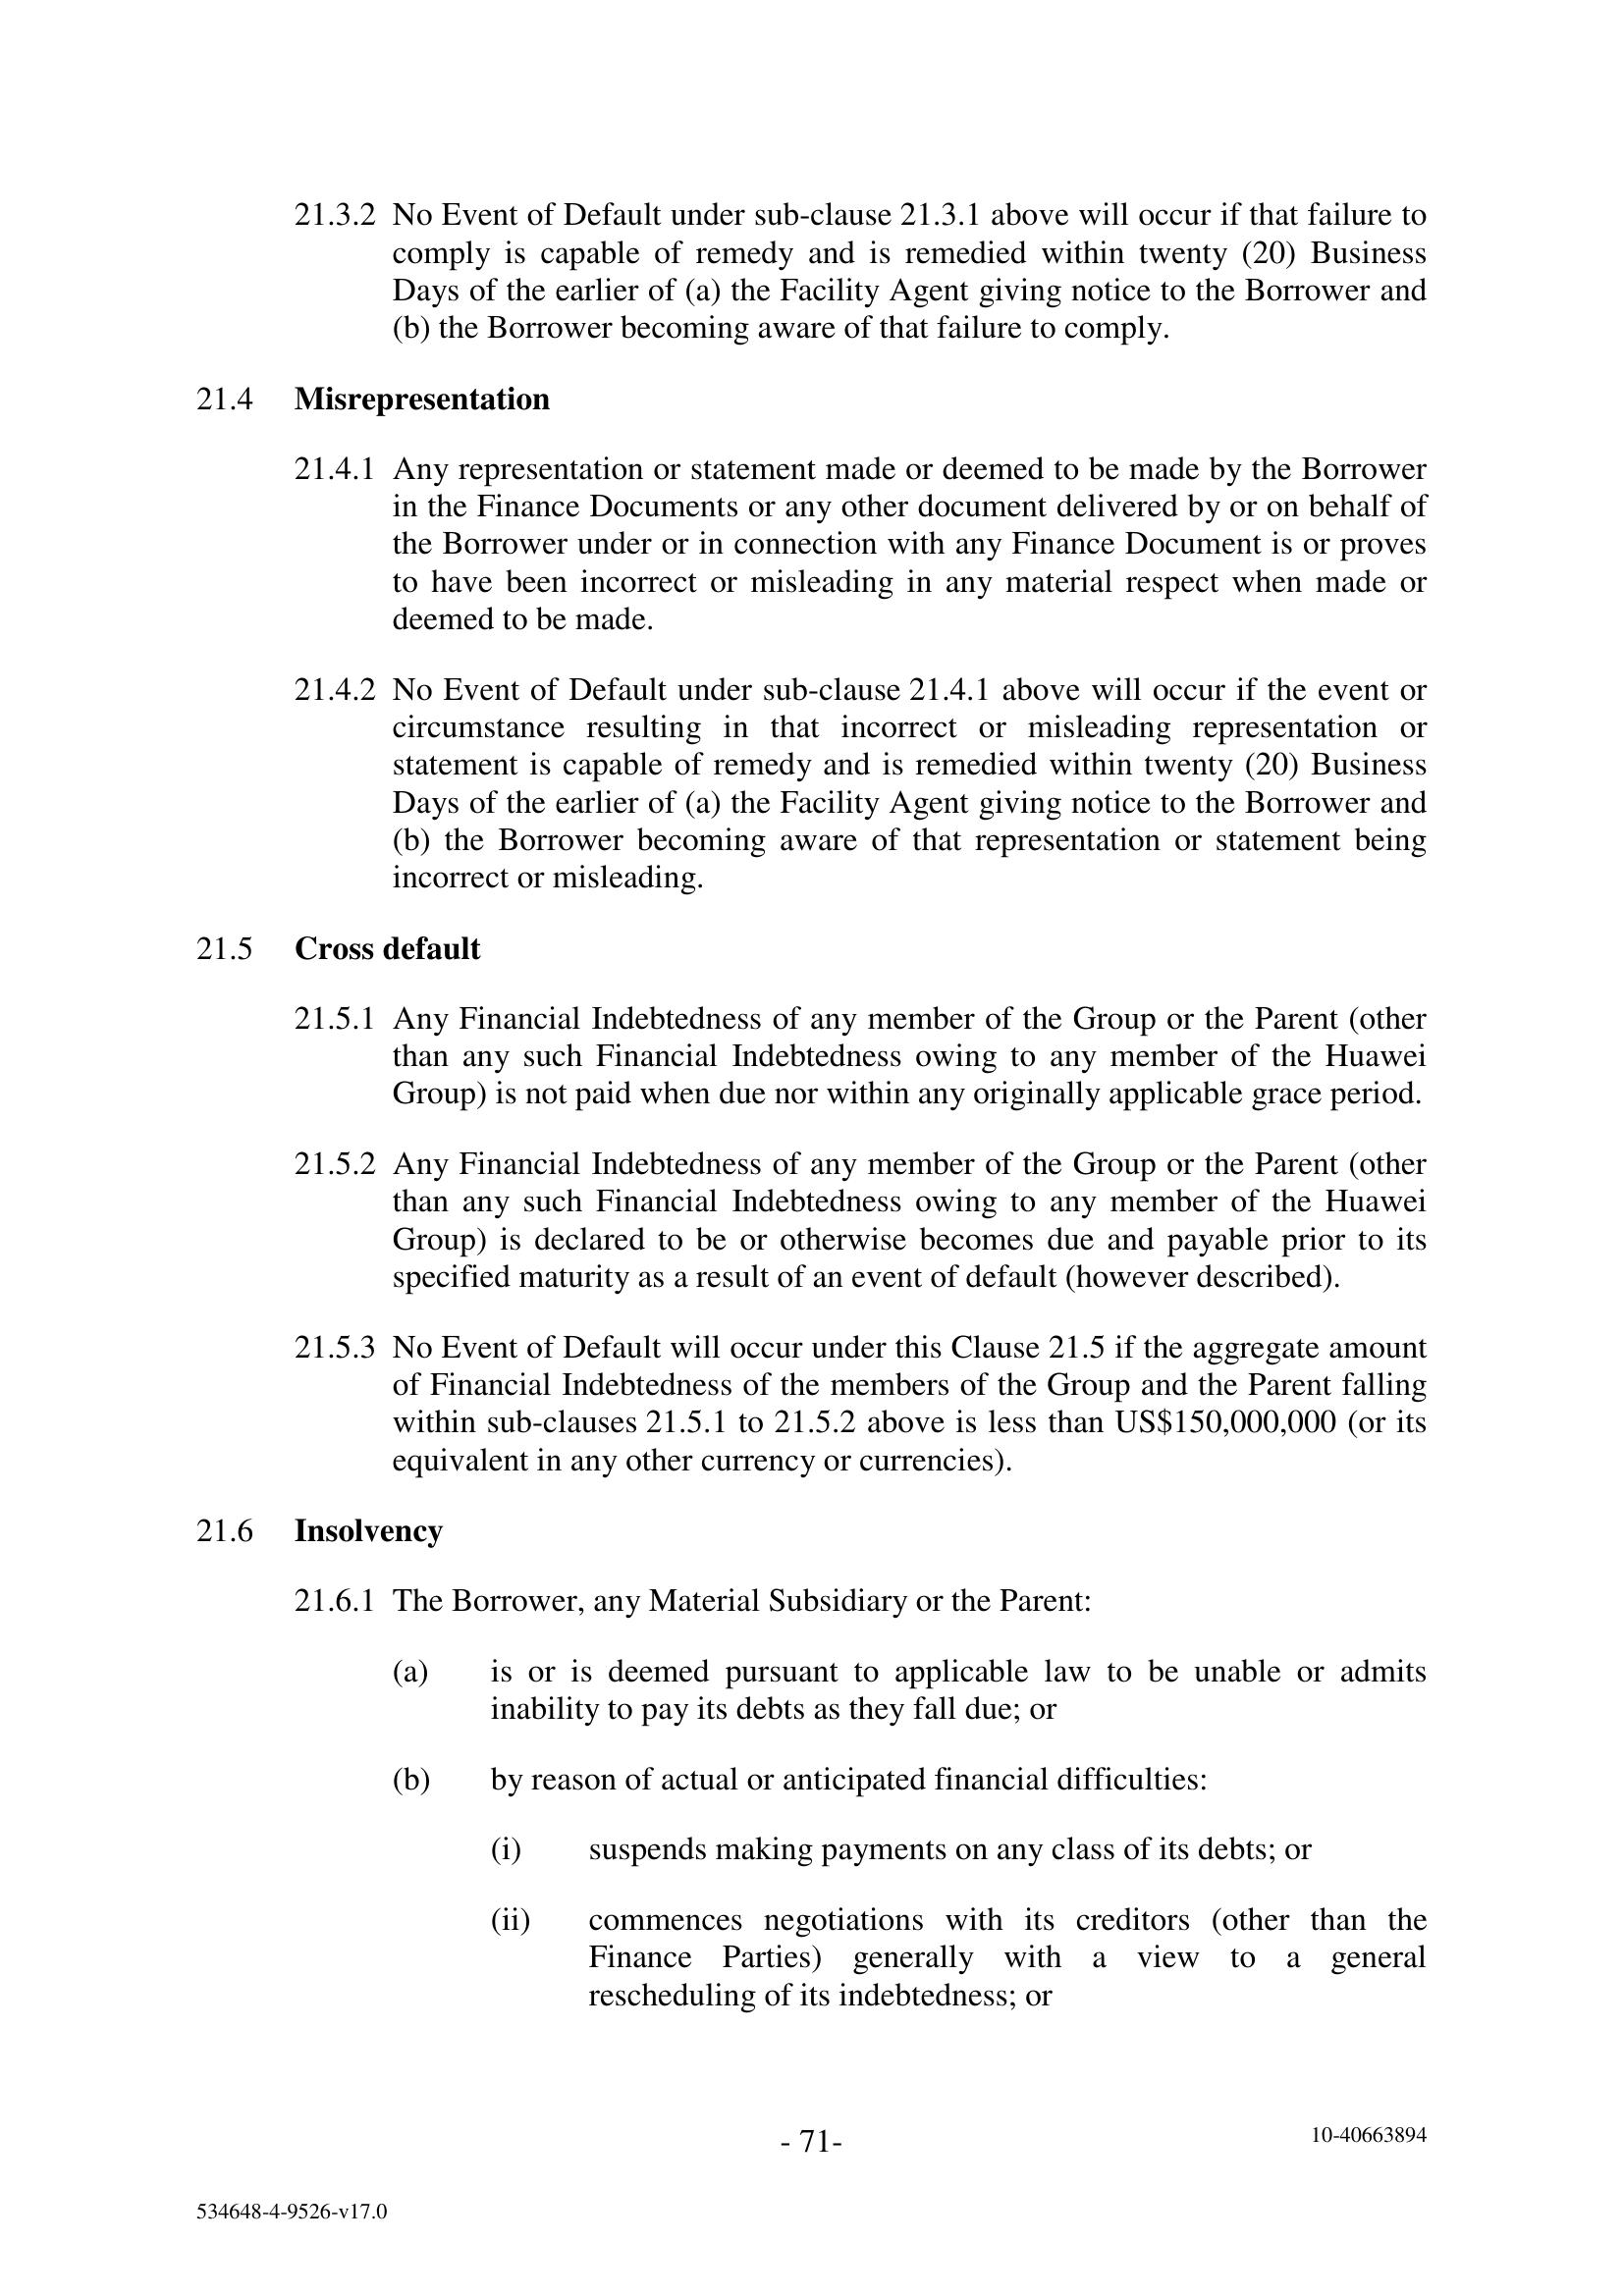pageno: (713, 2087, 892, 2226)
tag: (1198, 2078, 1542, 2203), (76, 2171, 485, 2270)
